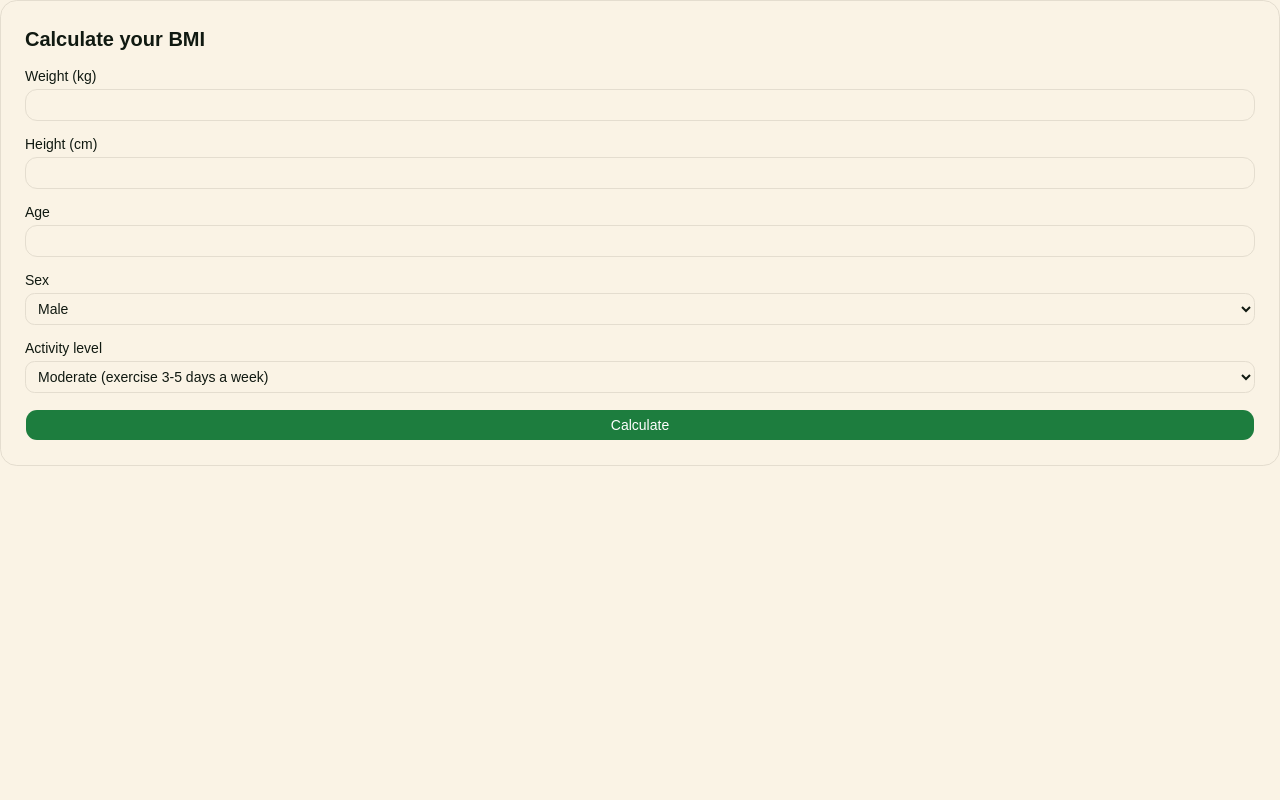
it: BmiForm › shows inline validation errors for invalid input
This screenshot has width=1280, height=800.
Click the button "Calculate" at (640, 425), box [25,409,1255,441]
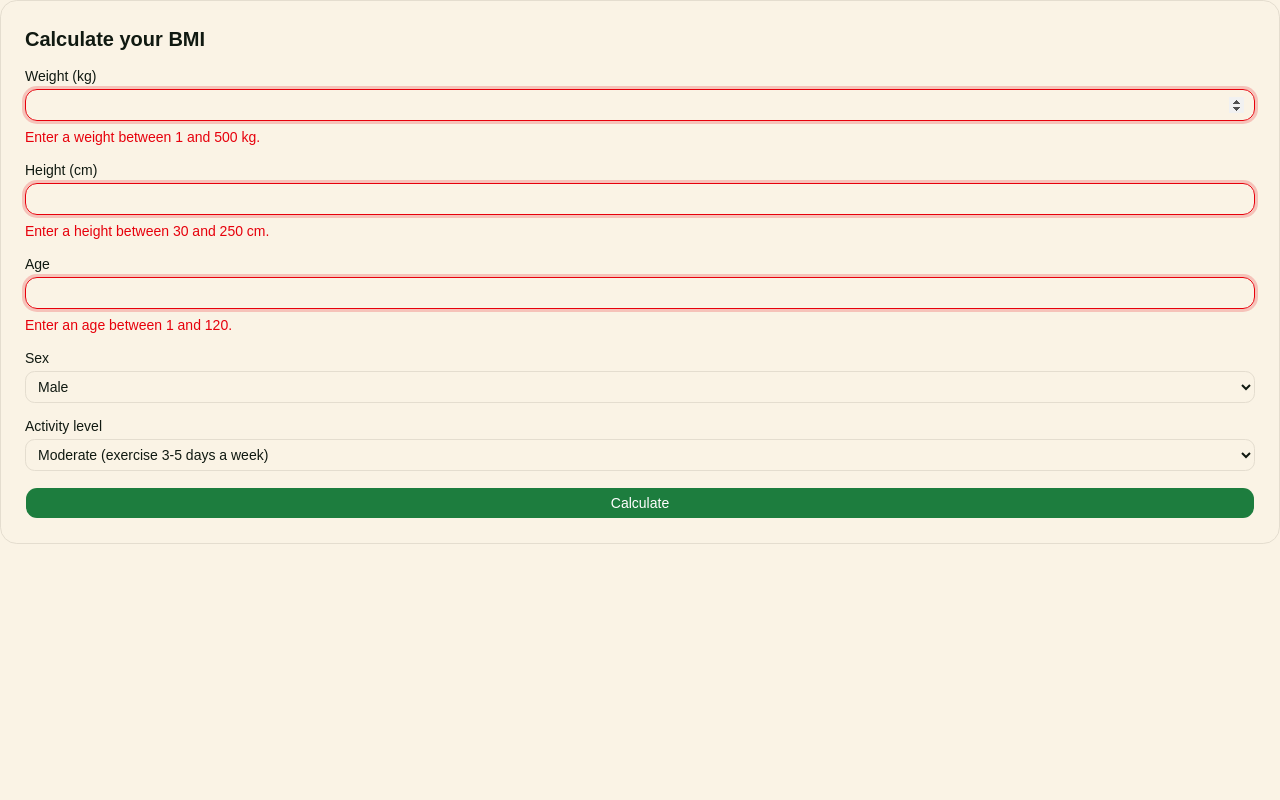
Now the text "Enter a weight between 1 and 500 kg." is shown, box [25,129,260,145]
Now the text "Enter a height between 30 and 250 cm." is shown, box [25,223,269,239]
